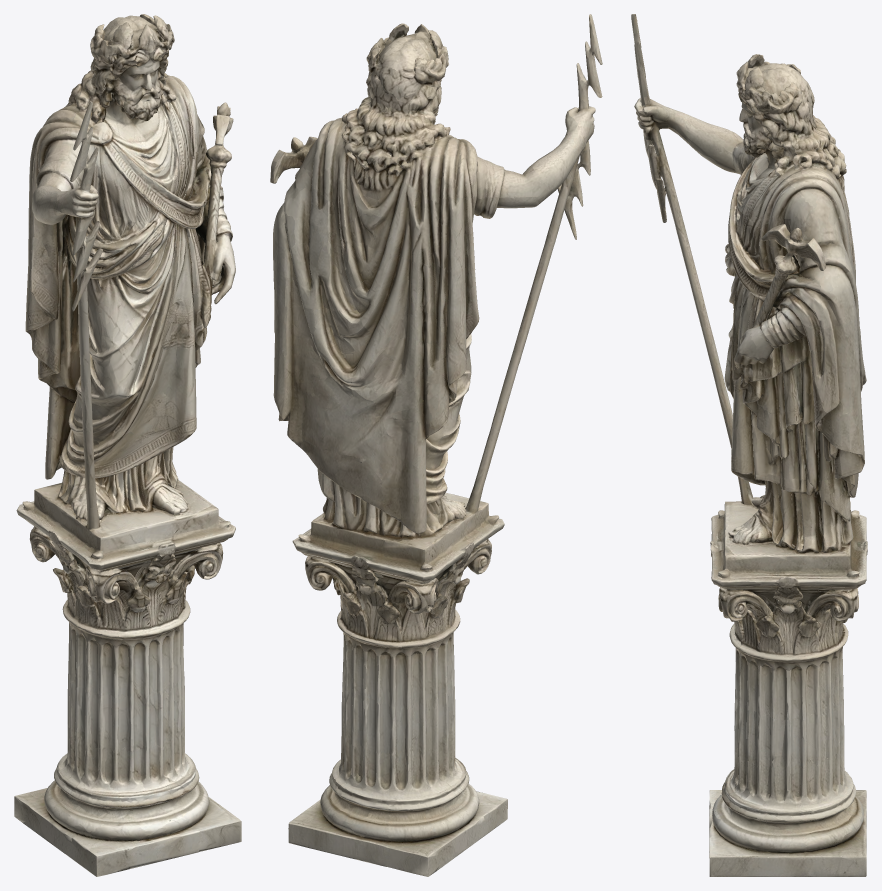
The model's file is wonder_colossus__zeus-king-of-gods.glb.
3 views of the same model, side by side, from view 1: azimuth 30°, elevation 25°; view 2: azimuth 150°, elevation 25°; view 3: azimuth 270°, elevation 25° (orthographic). The views are drawn at different scales.
Size of the model in its own units: 0.603 by 1.9 by 0.5209.
1 material, 1 textured.
